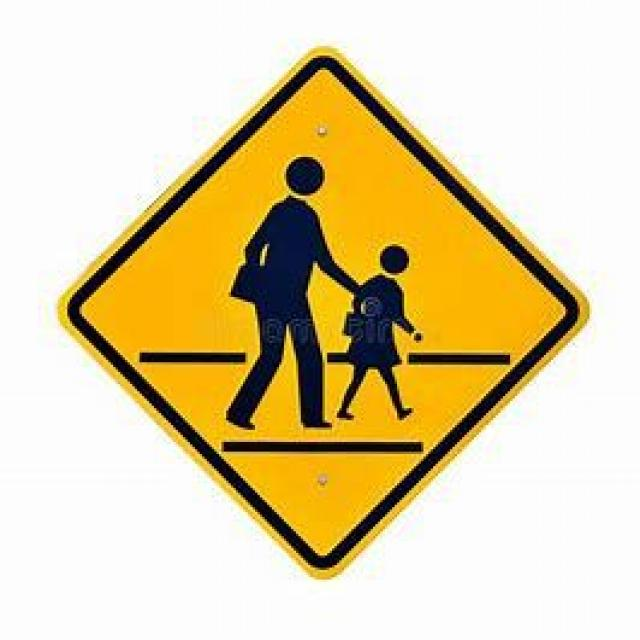SCHOOL_AHEAD: (53, 41, 589, 577)
